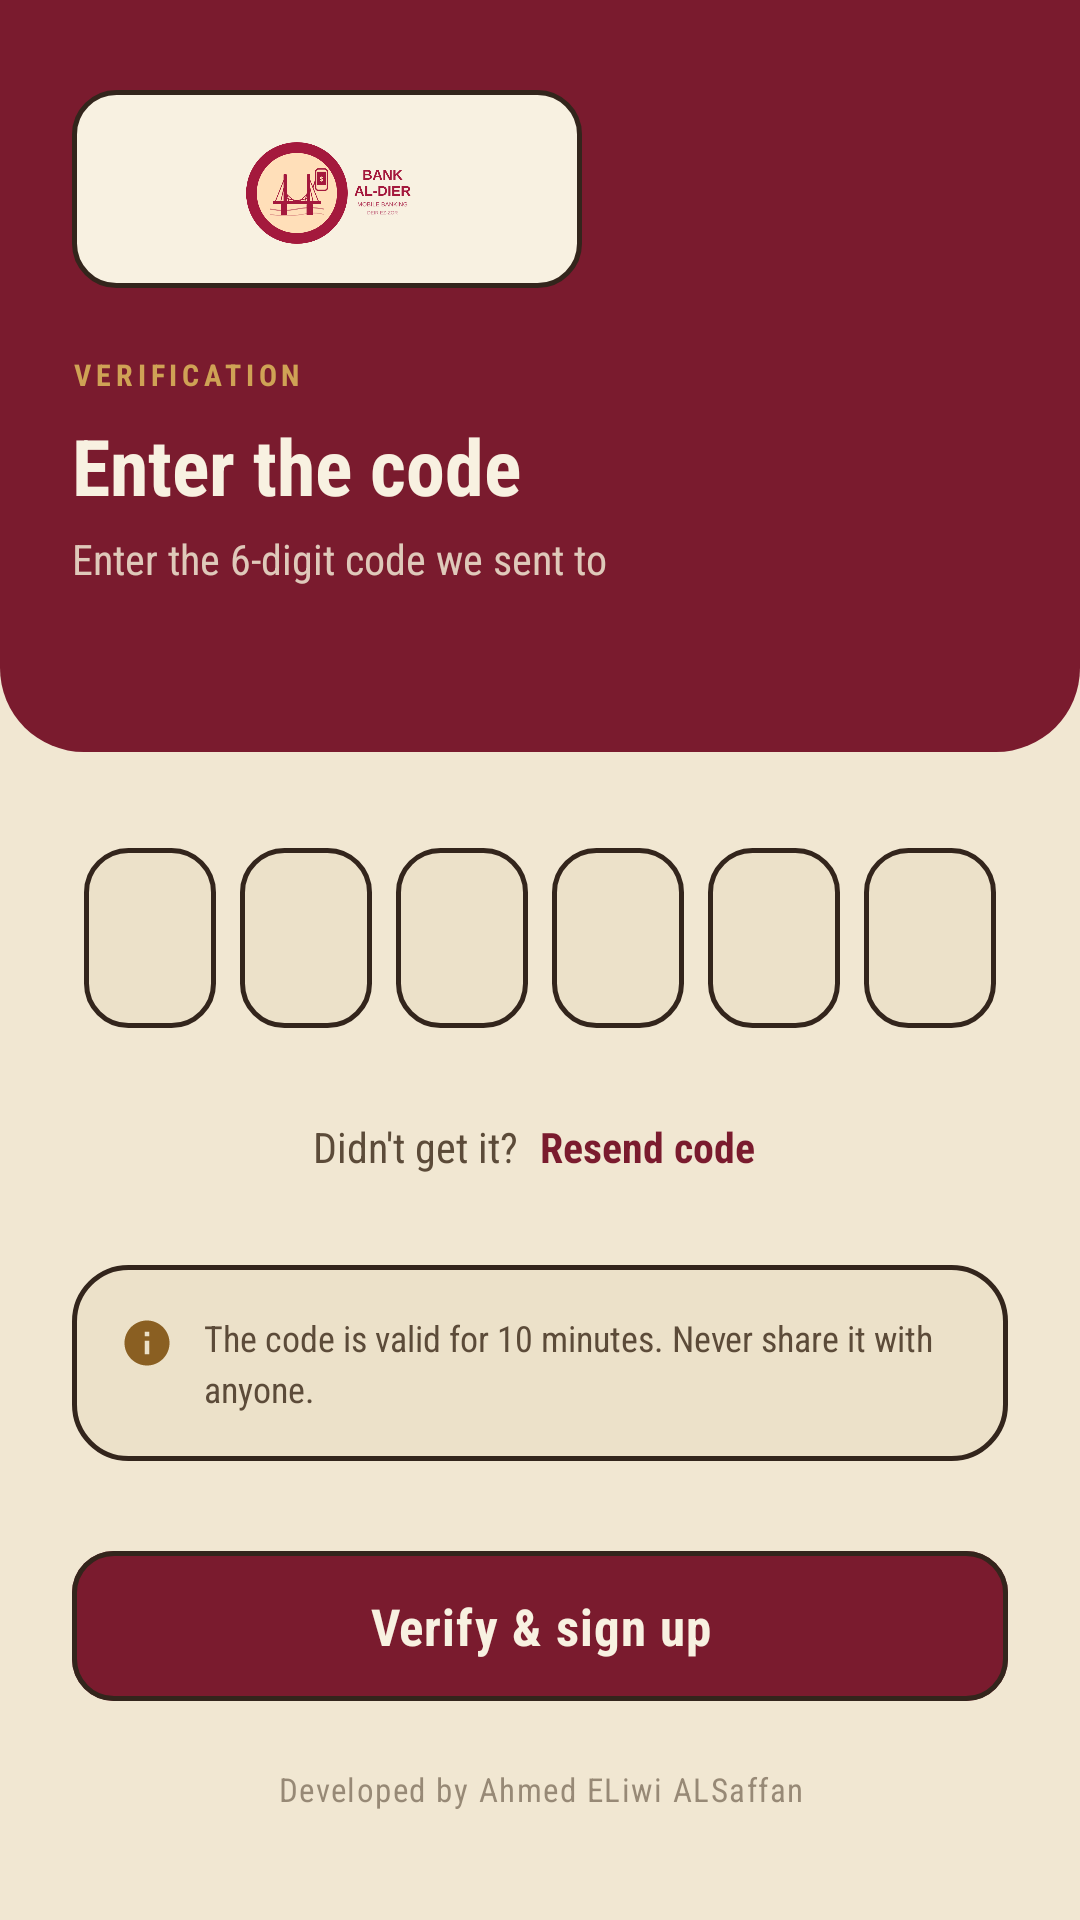

Locate icon controls on the screen. Image size 1080*1920, boxes as box(x1, y1, x2, y2).
info: box(124, 1320, 170, 1366)
